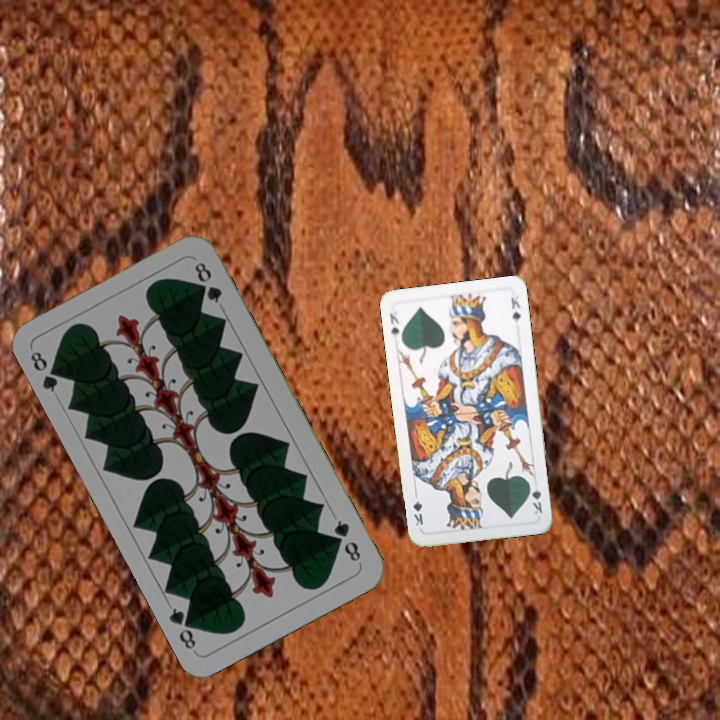G8: (26, 347, 65, 395), (329, 516, 364, 565)
GK: (525, 478, 545, 517), (385, 309, 403, 341)
